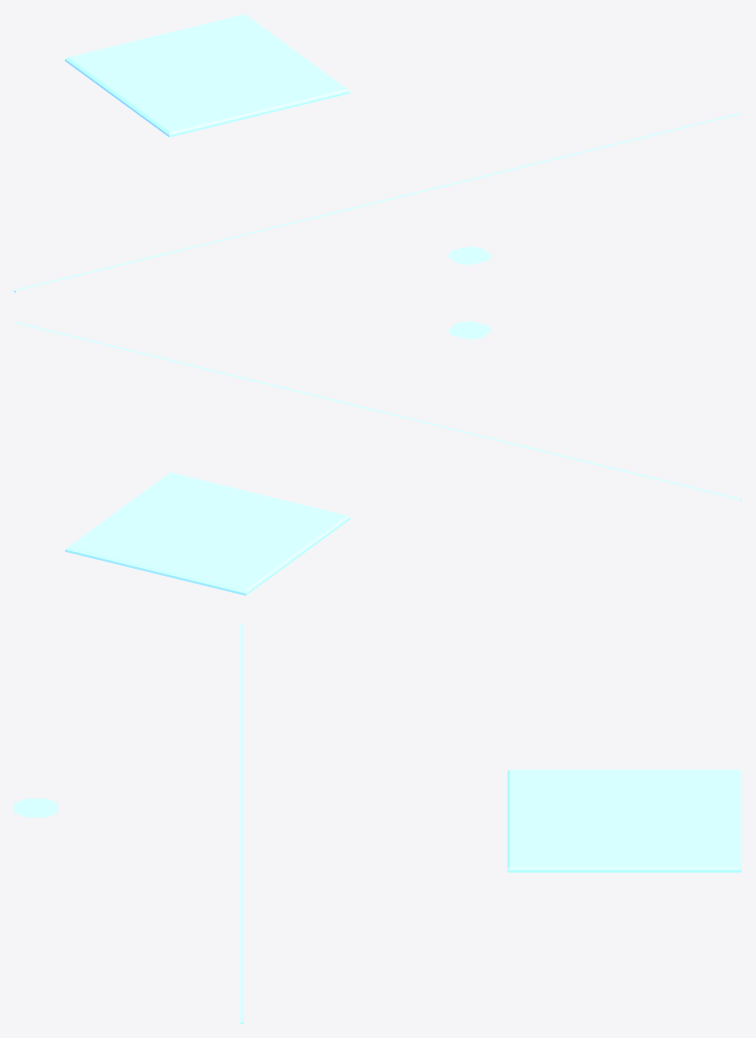
Rendered from powerBlueGlow.glb.
3 renders of one model, top to bottom at view 1: azimuth 30°, elevation 25°; view 2: azimuth 150°, elevation 25°; view 3: azimuth 270°, elevation 25°, orthographic. The views are drawn at different scales.
Parts seen in each view (by area): view 1: powerBlueGlow; view 2: powerBlueGlow; view 3: powerBlueGlow.
Boxes of the visible parts, x1,y1,x2,y2 form: powerBlueGlow: [14, 14, 741, 292]; powerBlueGlow: [14, 321, 741, 595]; powerBlueGlow: [14, 624, 741, 1023].
Size of the model in its own units: 16 by 0.3173 by 12.37.
